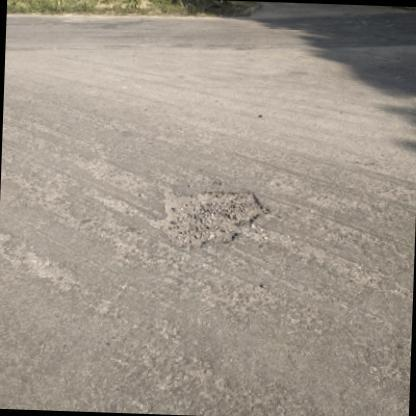pothole: (154, 186, 268, 252)
